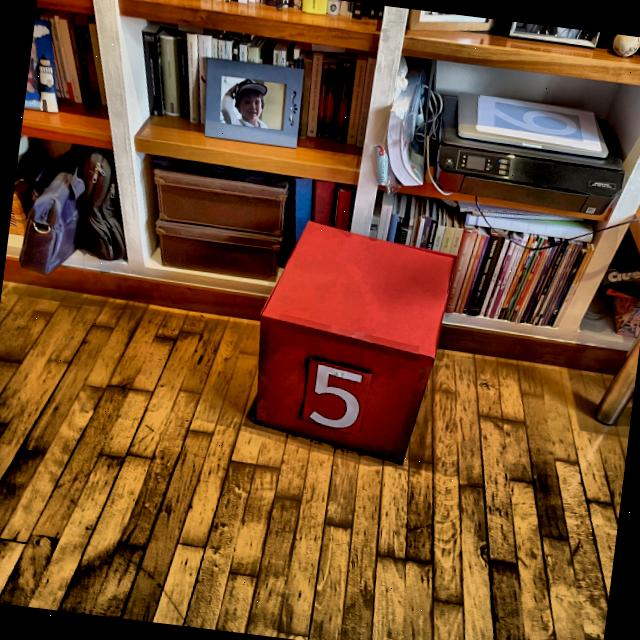red box: (244, 213, 453, 469), (308, 362, 364, 432)
